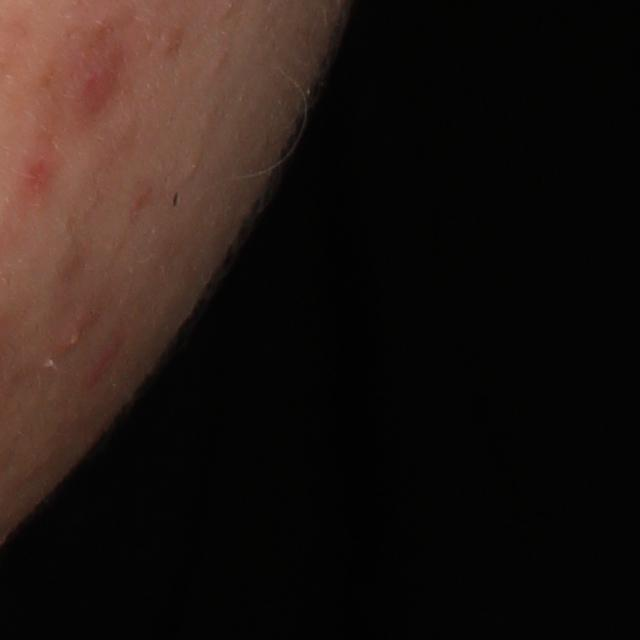papule: (62, 24, 130, 127), (16, 140, 60, 205)
